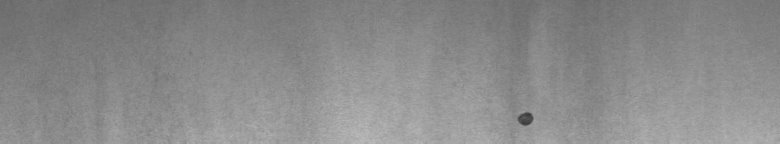fi: (513, 104, 539, 136)
